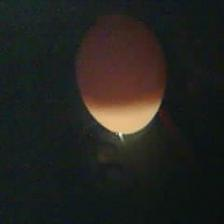fertile: (69, 8, 173, 138)
